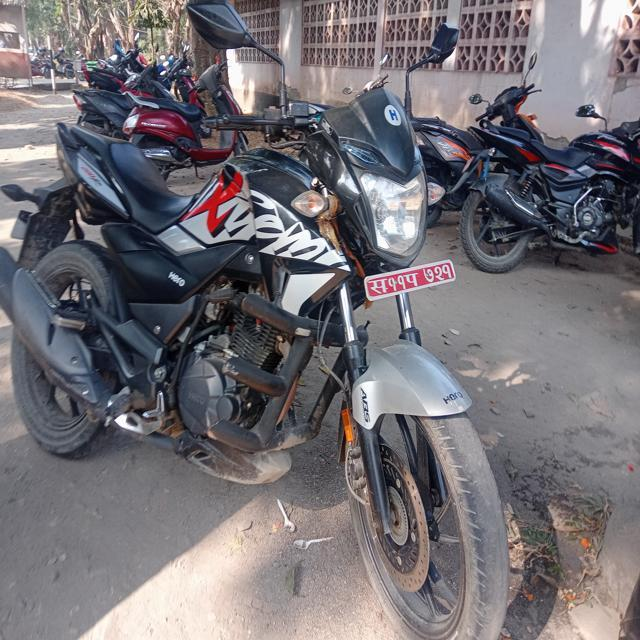license_plate: (356, 226, 469, 328)
